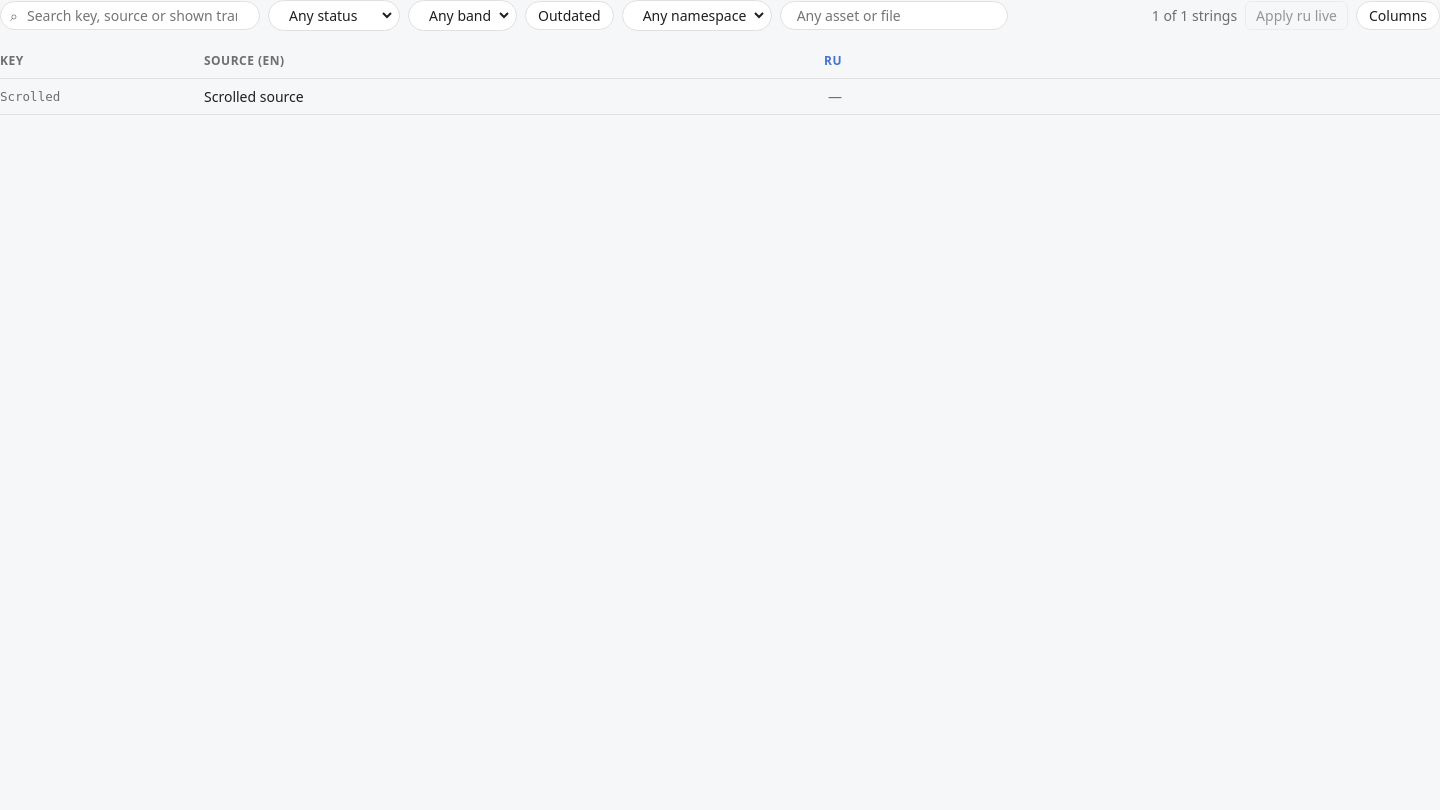
Test: GridView › key details popover › closes when the grid scrolls
Click the button "Scrolled" at (100, 96), box x1=0 y1=89 x2=200 y2=104
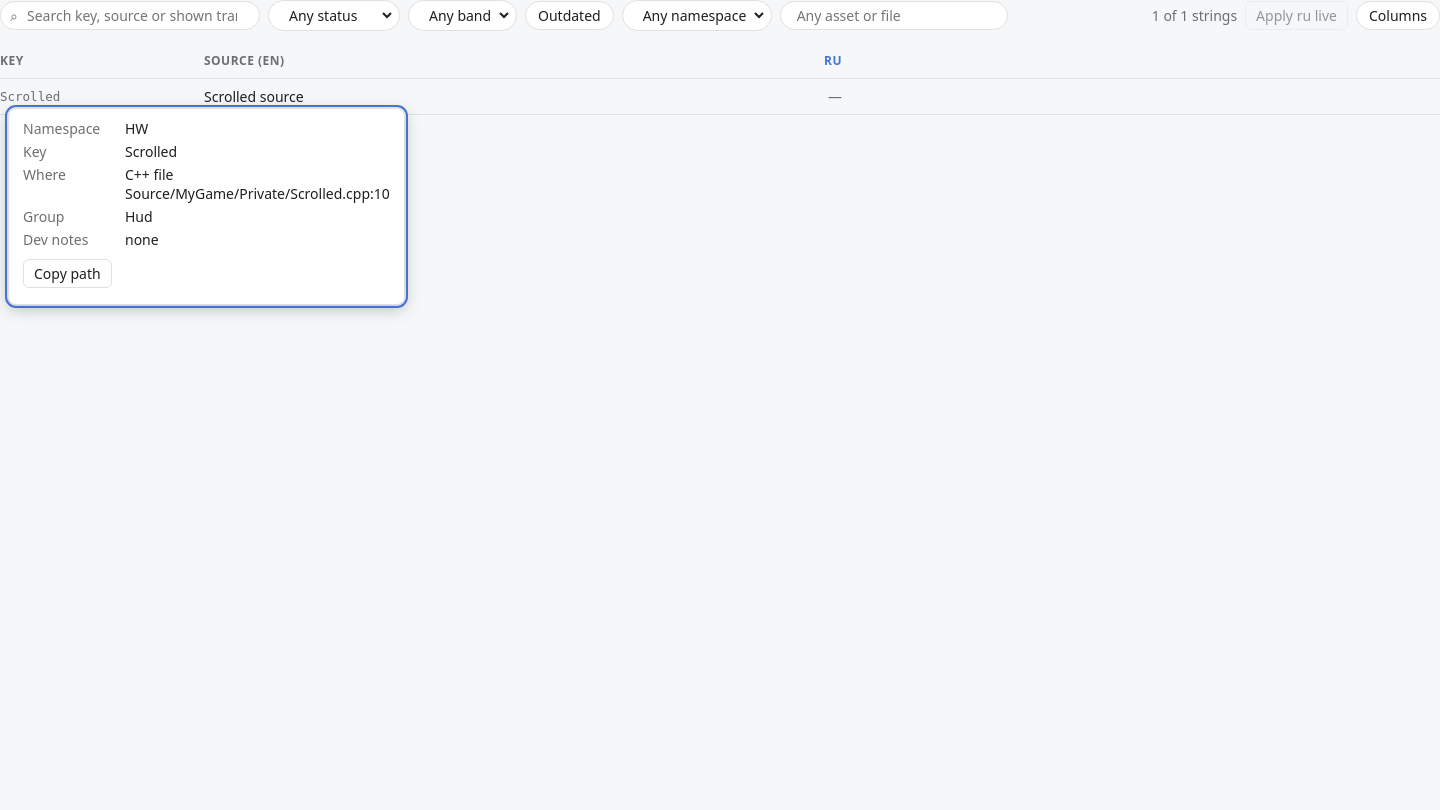
Result: the dialog named "Key details" is shown at x1=8 y1=108 x2=405 y2=305
